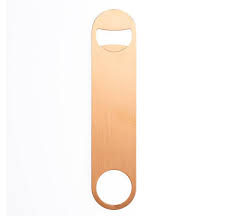bottleopener: (89, 8, 137, 210)
